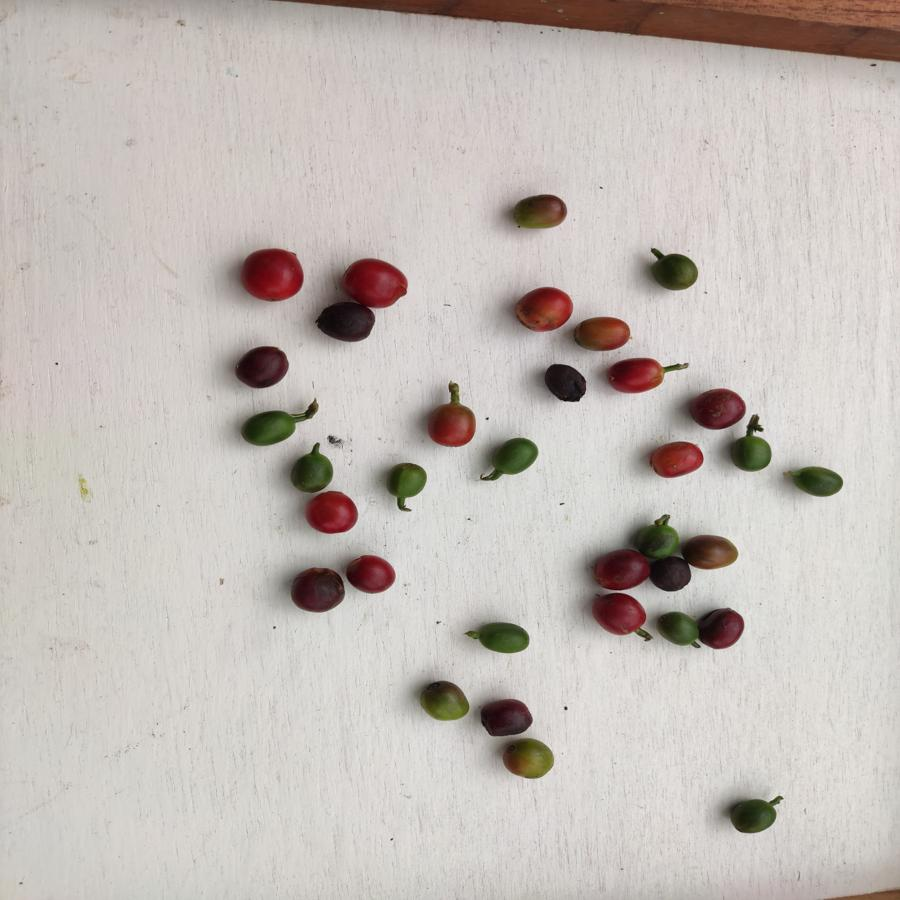Inmaduro: (646, 248, 699, 293), (241, 407, 296, 448), (477, 617, 536, 654), (792, 462, 847, 499), (492, 434, 537, 479), (731, 796, 780, 837), (636, 518, 681, 558), (730, 432, 773, 473), (289, 452, 333, 492), (657, 608, 698, 649), (385, 463, 429, 498)
Maduro: (237, 248, 307, 302), (339, 258, 410, 310), (302, 490, 362, 537), (425, 398, 478, 446), (516, 287, 571, 333), (605, 354, 663, 396), (648, 438, 703, 480)
Pinton: (499, 734, 556, 780), (418, 675, 472, 723), (512, 188, 568, 233), (573, 314, 633, 353), (684, 529, 741, 570)
Sobremaduro: (289, 565, 347, 614), (231, 344, 294, 389), (317, 300, 377, 344), (690, 385, 747, 431), (592, 591, 647, 636), (698, 604, 748, 650), (542, 362, 595, 405), (593, 551, 649, 591), (480, 696, 533, 737), (641, 557, 695, 595), (346, 555, 399, 593)
